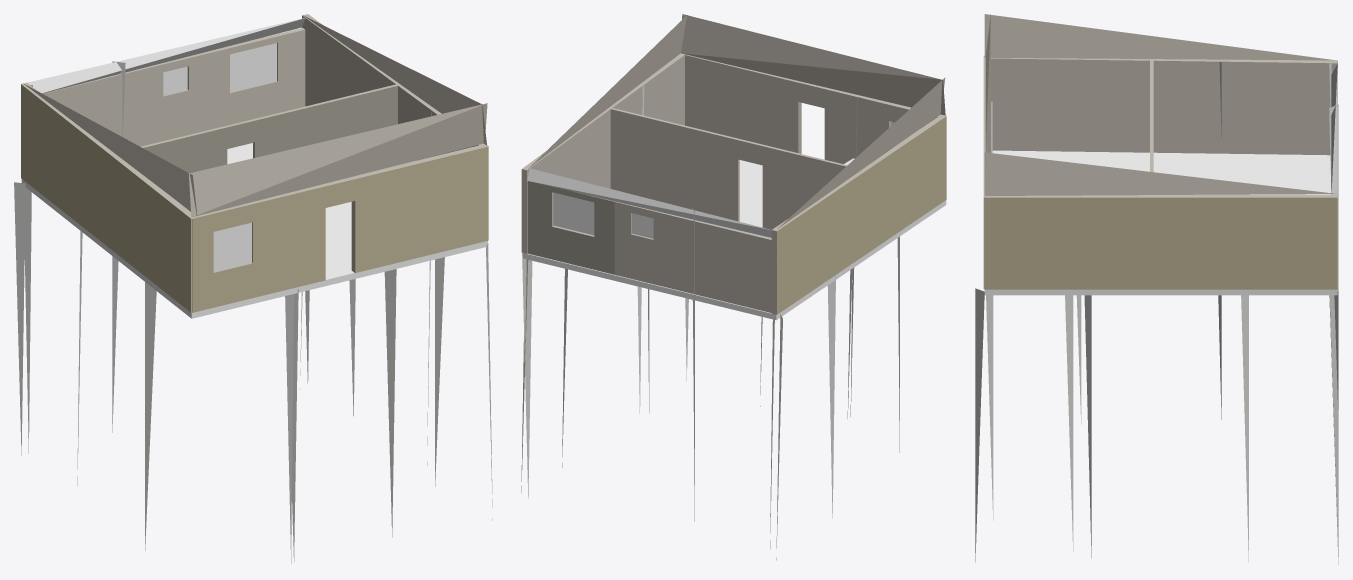
3 views of the same model, side by side, from view 1: azimuth 30°, elevation 25°; view 2: azimuth 150°, elevation 25°; view 3: azimuth 270°, elevation 25° (orthographic). The views are drawn at different scales.
Visible parts, largest first — view 1: F_16; view 2: F_16; view 3: F_16.
Boxes of the visible parts, x1,y1,x2,y2 form: F_16: (14,14,492,563); F_16: (521,14,946,560); F_16: (975,14,1338,564).
Size of the model in its own units: 9.04 by 12.18 by 9.77.
